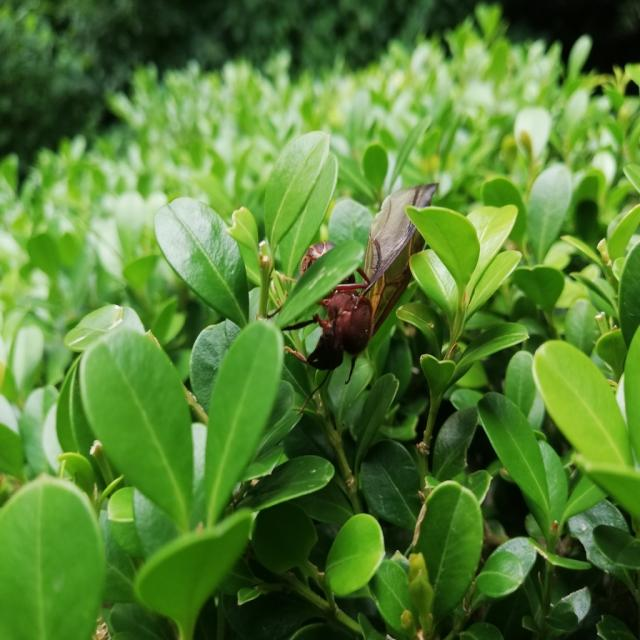Alive-Female-Alate: (256, 183, 438, 415)
